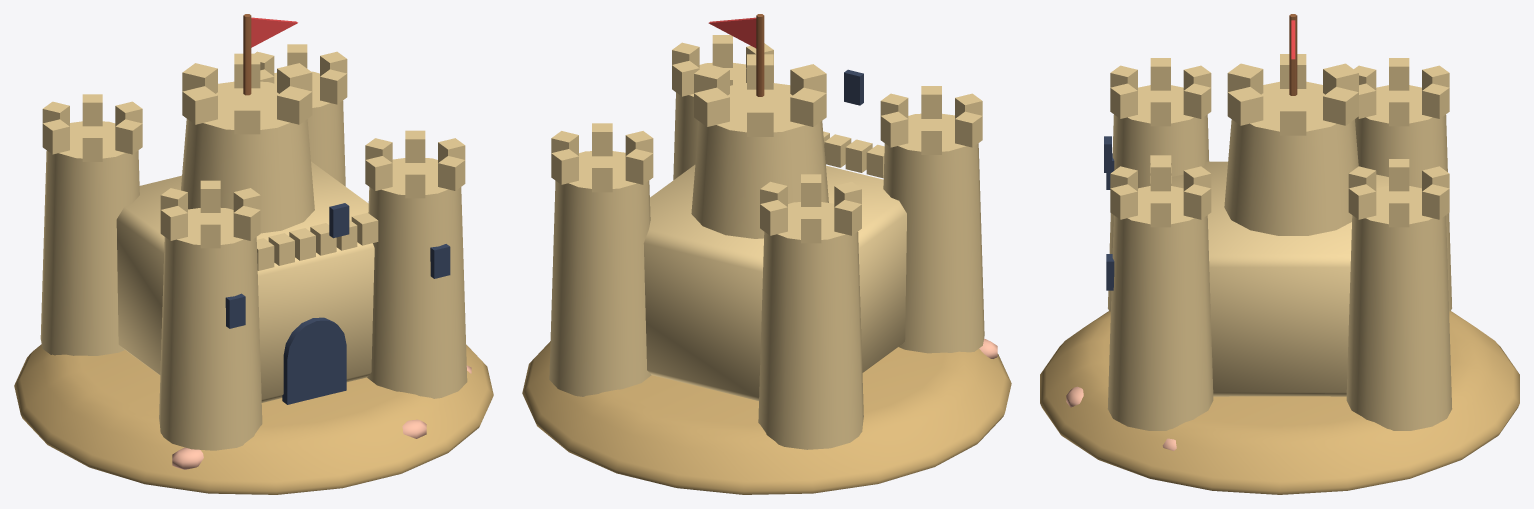
The model's file is sand_castle.glb.
The picture shows the model from 3 angles, left to right: view 1: azimuth 30°, elevation 25°; view 2: azimuth 150°, elevation 25°; view 3: azimuth 270°, elevation 25°; orthographic projection. The views are drawn at different scales.
Parts seen in each view (by area): view 1: sand_castle; view 2: sand_castle; view 3: sand_castle.
Boxes of the visible parts, x1,y1,x2,y2 form: sand_castle: [14, 14, 493, 494]; sand_castle: [522, 14, 1011, 494]; sand_castle: [1040, 14, 1519, 494].
Bounding box in the file's own units: 1.83 × 1.58 × 1.81.
